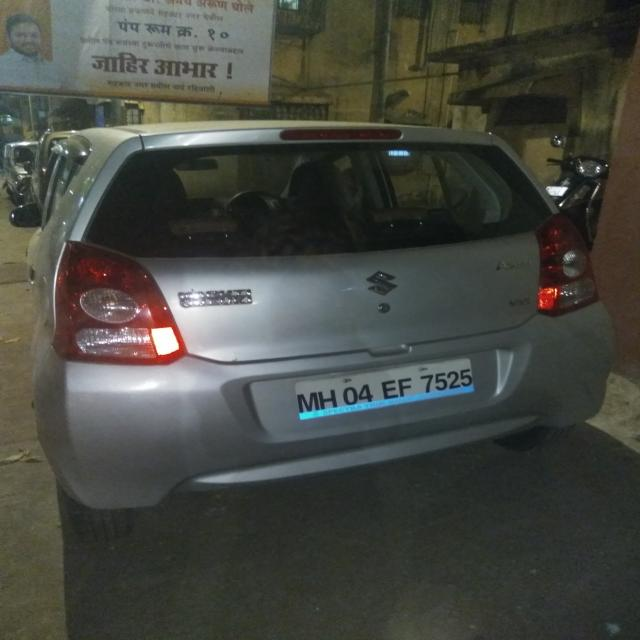Number-Plate: (298, 360, 478, 418)
